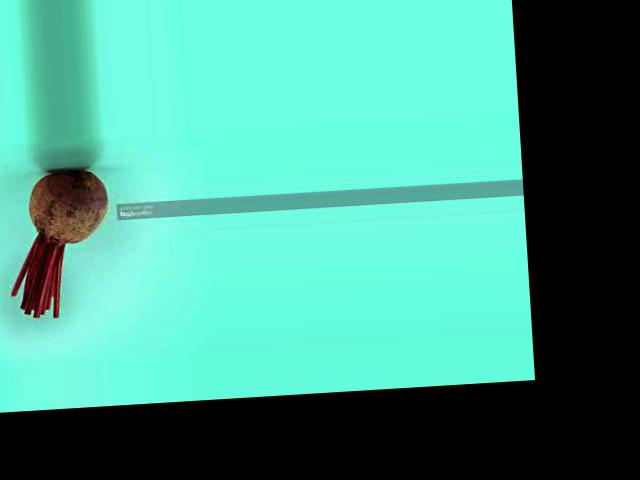beet: (4, 167, 114, 320)
